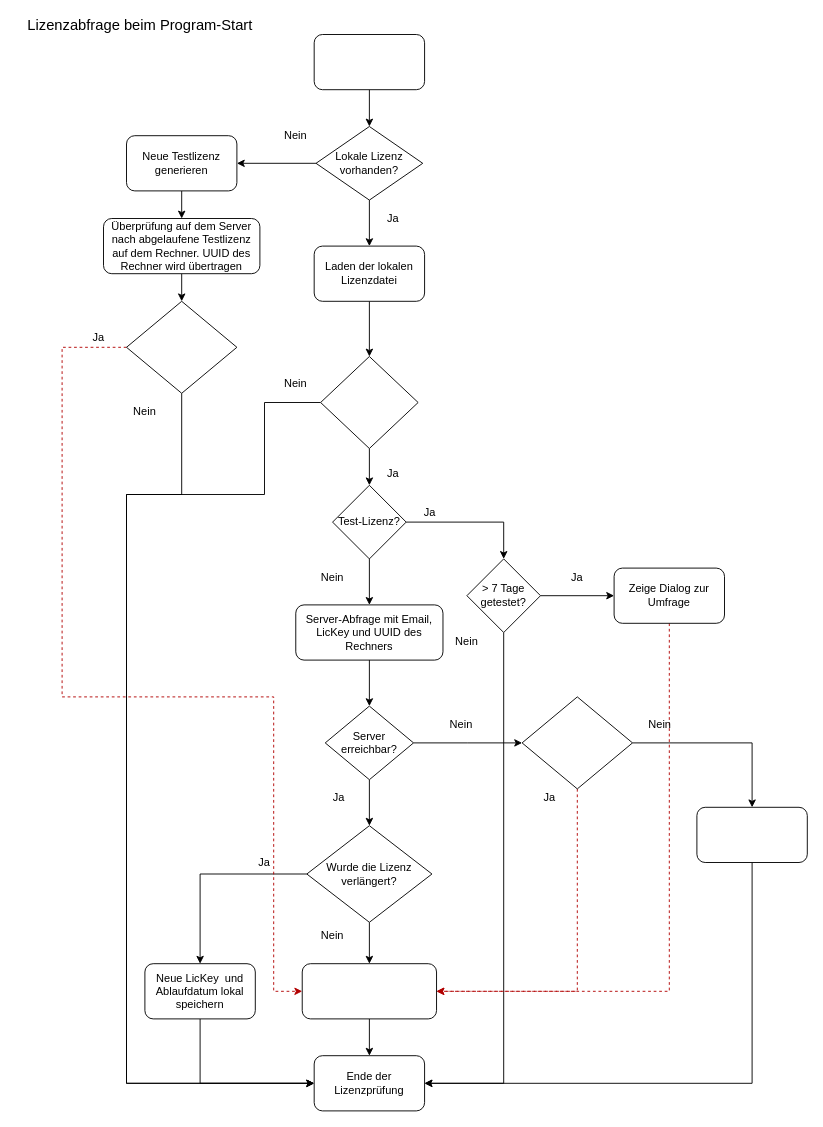
The diagram is 823 pixels wide and 1127 high, and some of its shapes have lost their labels. Here are the shapes that lost their labels. From the top down, the centre of each, then its label:
the point at 369,62: Program-Start
the point at 181,346: Abgelaufene Testlizenz auf dem Server?
the point at 369,402: Lizenz abgelaufen?
the point at 576,742: Wurde es schon bereits befreiet?
the point at 751,834: Befreiung für 7 Tage vor dem Sperren der Lizenz
the point at 369,991: Lokale Lizenz sperren
